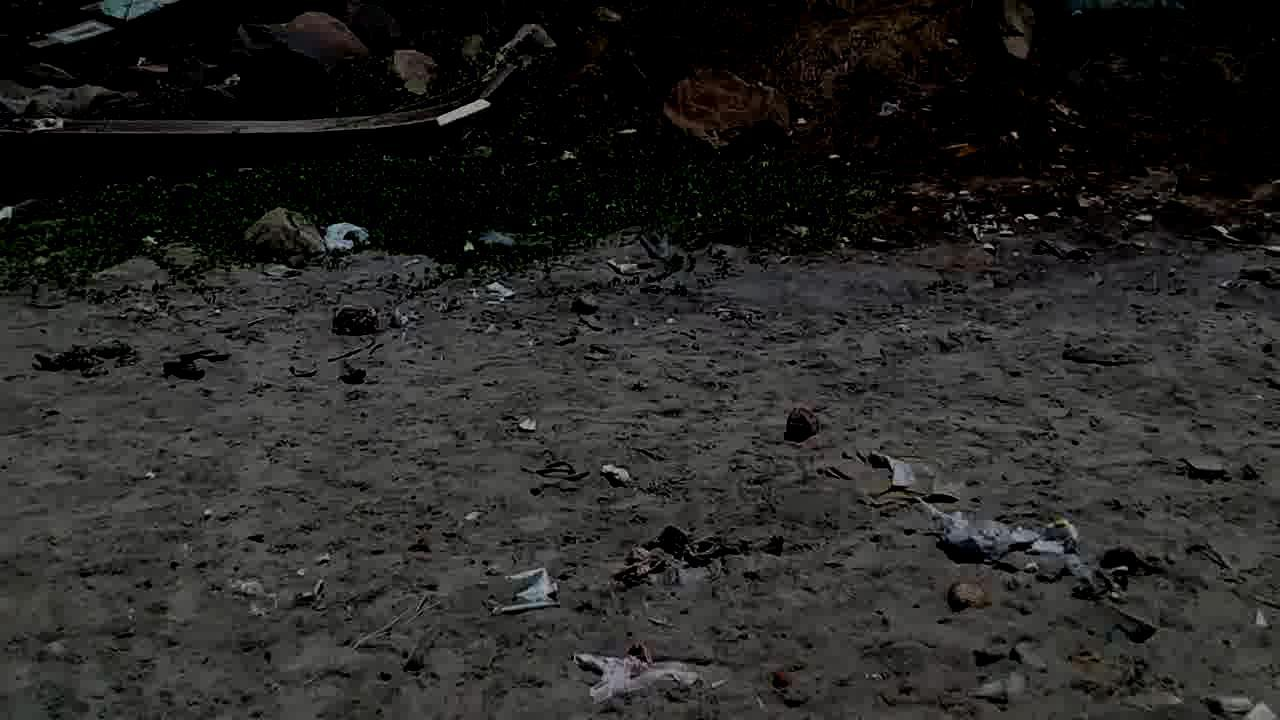large collection of objects: (246, 213, 320, 278)
obj: (10, 145, 840, 290), (888, 490, 1078, 570), (1056, 549, 1162, 648), (574, 648, 726, 710), (24, 324, 138, 400), (603, 538, 730, 594), (352, 590, 447, 646), (866, 446, 954, 505), (150, 338, 230, 384), (490, 566, 558, 614), (1059, 336, 1151, 366), (322, 300, 382, 342), (598, 456, 652, 498), (320, 216, 376, 256), (947, 578, 1001, 616), (781, 401, 826, 446), (518, 460, 590, 482), (601, 256, 652, 280), (485, 278, 517, 304), (504, 410, 538, 432), (341, 371, 371, 390)
sand/background: (1, 0, 1279, 298)
